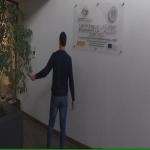Pisau: (26, 71, 34, 81)
